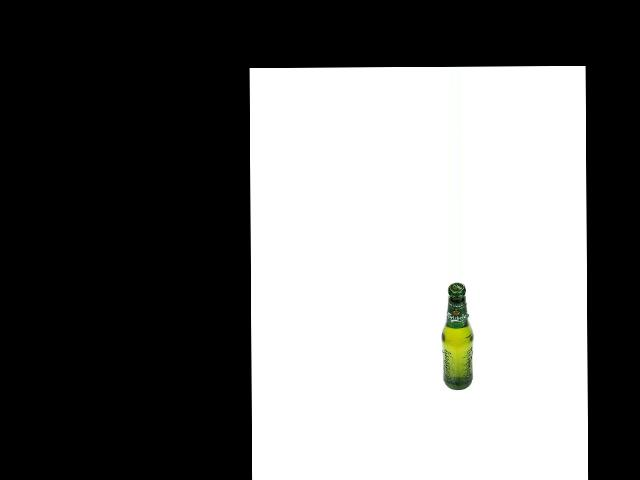beer: (442, 282, 474, 390)
